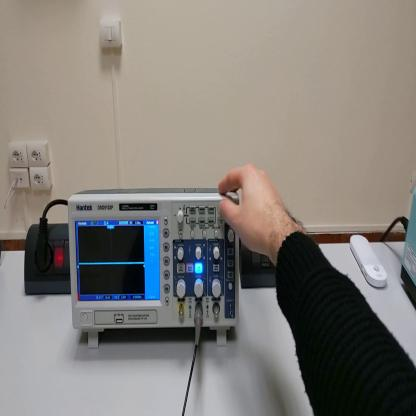hand: (217, 164, 287, 259)
oscilloscope: (68, 185, 240, 348)
socket: (23, 225, 71, 298)
welder station: (402, 185, 416, 310)
